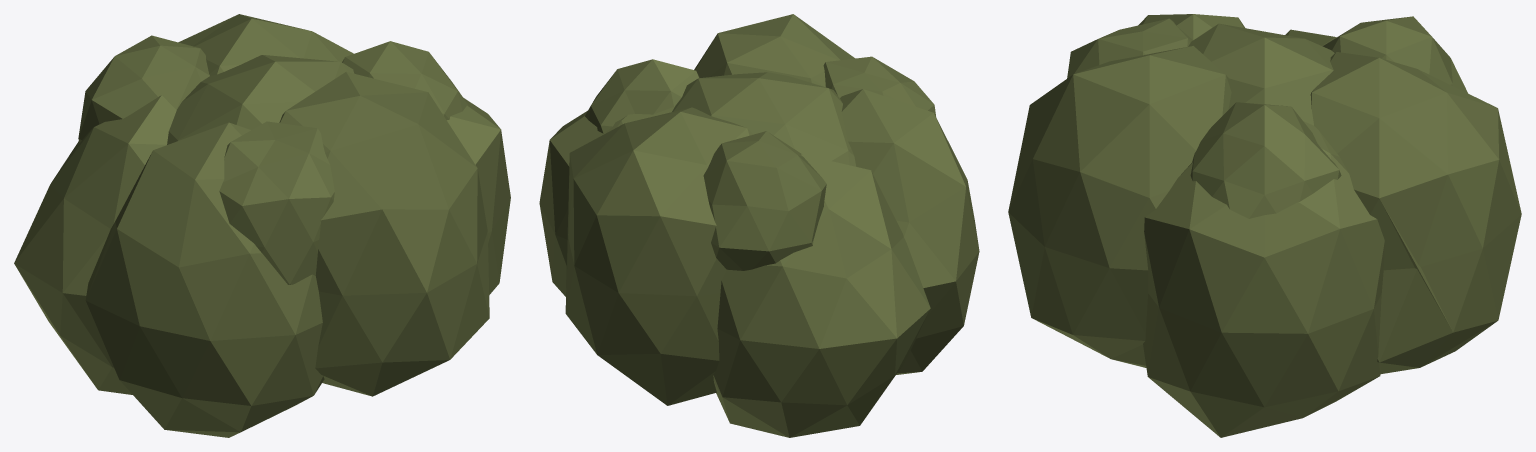
Rendered from shrub.glb.
3 views of the same model, side by side, from view 1: azimuth 30°, elevation 25°; view 2: azimuth 150°, elevation 25°; view 3: azimuth 270°, elevation 25° (orthographic). The views are drawn at different scales.
Parts seen in each view (by area): view 1: shrub_detail; view 2: shrub_detail; view 3: shrub_detail.
Part boxes in pixels (x1,y1,x2,y2): shrub_detail: (14, 14, 510, 437); shrub_detail: (539, 14, 979, 437); shrub_detail: (1008, 14, 1521, 437).
Bounding box in the file's own units: 1.84 × 1.42 × 1.83.
